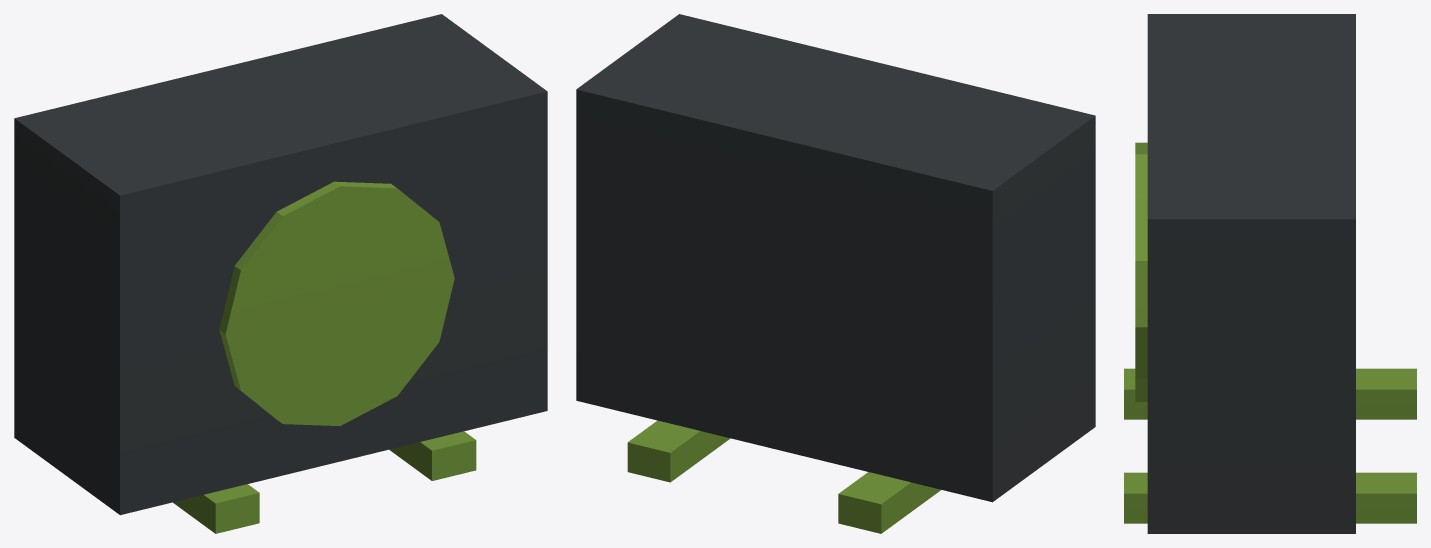
File: Fan_01.fbx
The picture shows the model from 3 angles, left to right: view 1: azimuth 30°, elevation 25°; view 2: azimuth 150°, elevation 25°; view 3: azimuth 270°, elevation 25°; orthographic projection. The views are drawn at different scales.
Visible parts, largest first — view 1: Fan_01; view 2: Fan_01; view 3: Fan_01.
Part boxes in pixels (x1,y1,x2,y2): Fan_01: (14,14,547,533); Fan_01: (576,14,1095,533); Fan_01: (1124,14,1416,533).
Size of the model in its own units: 0.7 by 0.5474 by 0.4217.
